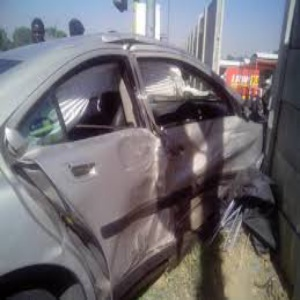door: (108, 139, 156, 259)
